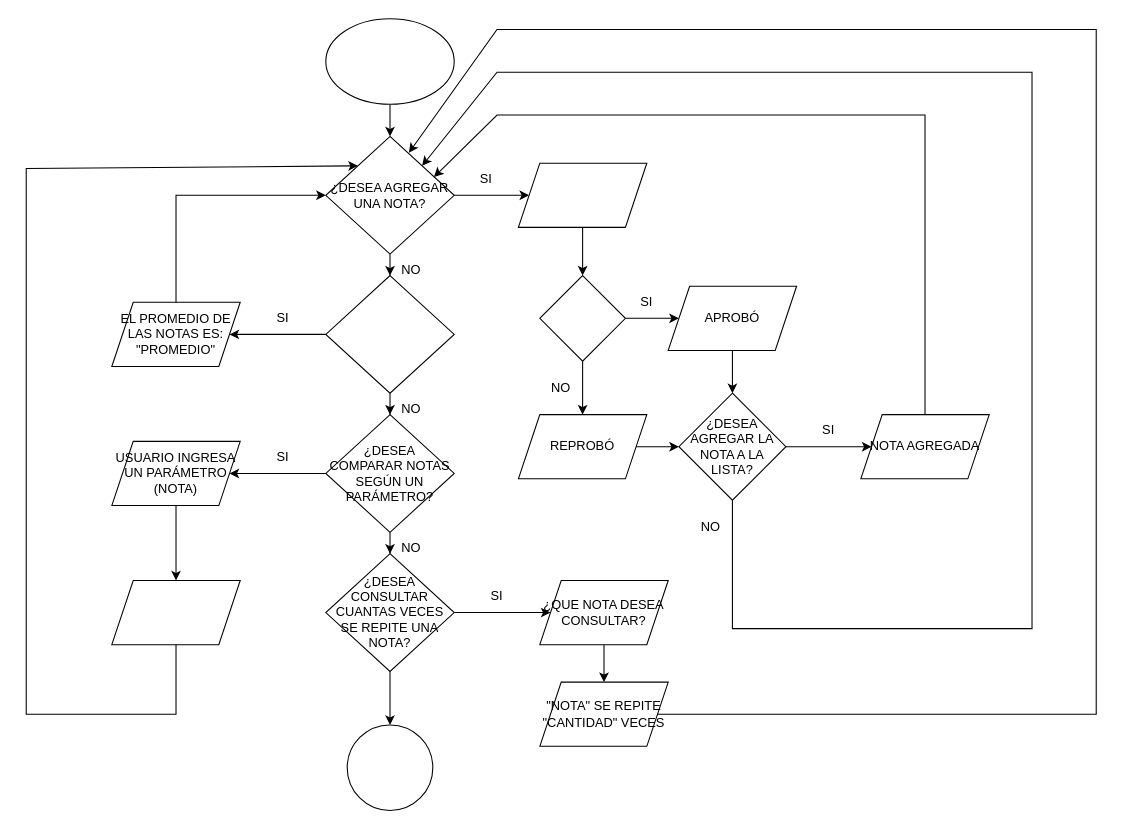
The diagram is 1124 pixels wide and 829 high, and some of its shapes have lost their labels. The shapes that lost their labels are listed below. From the top down, each one's centre as x and y in pixels, then its label:
point 389,61: INICIO
point 582,194: USUARIO AGREGA LA NOTA
point 389,333: ¿DESEA CALCULAR EL PROMEDIO DE LAS NOSTAS AGREGADAS?
point 582,317: SI NOTA >=70
point 175,612: "VALOR" NOTAS SON MAYORES A "PARÁMETRO"
point 389,767: FIN
